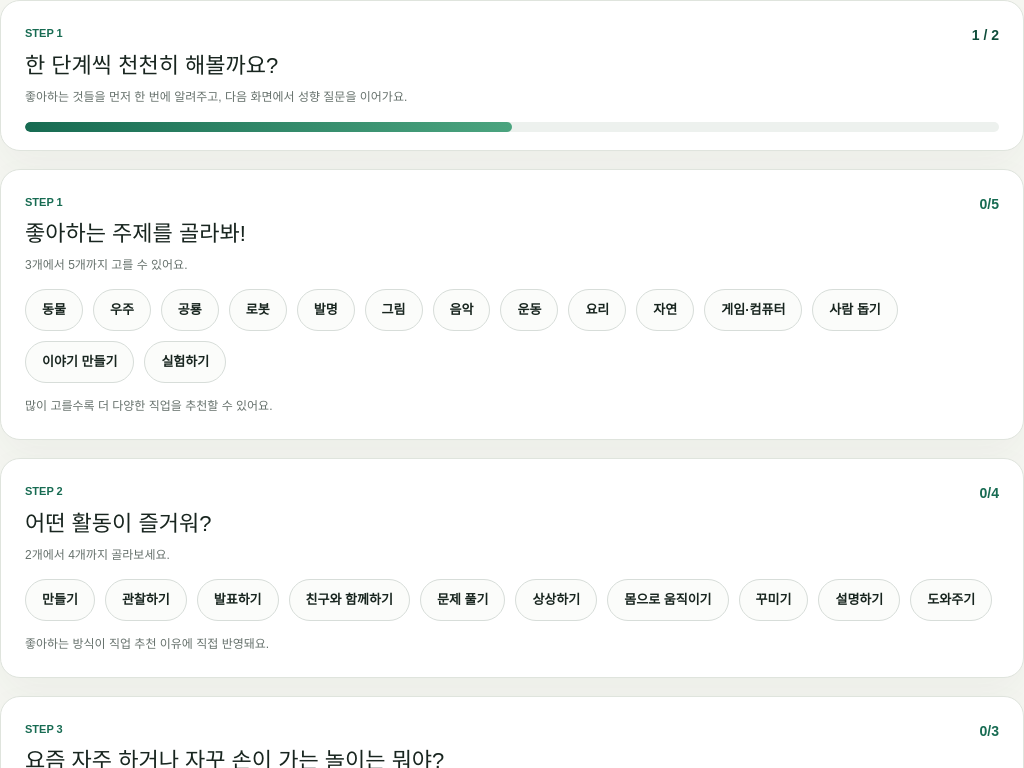
Test: requires new balanced inputs before moving to the personality step
Click the button "동물" at (54, 310), box [25,289,83,331]
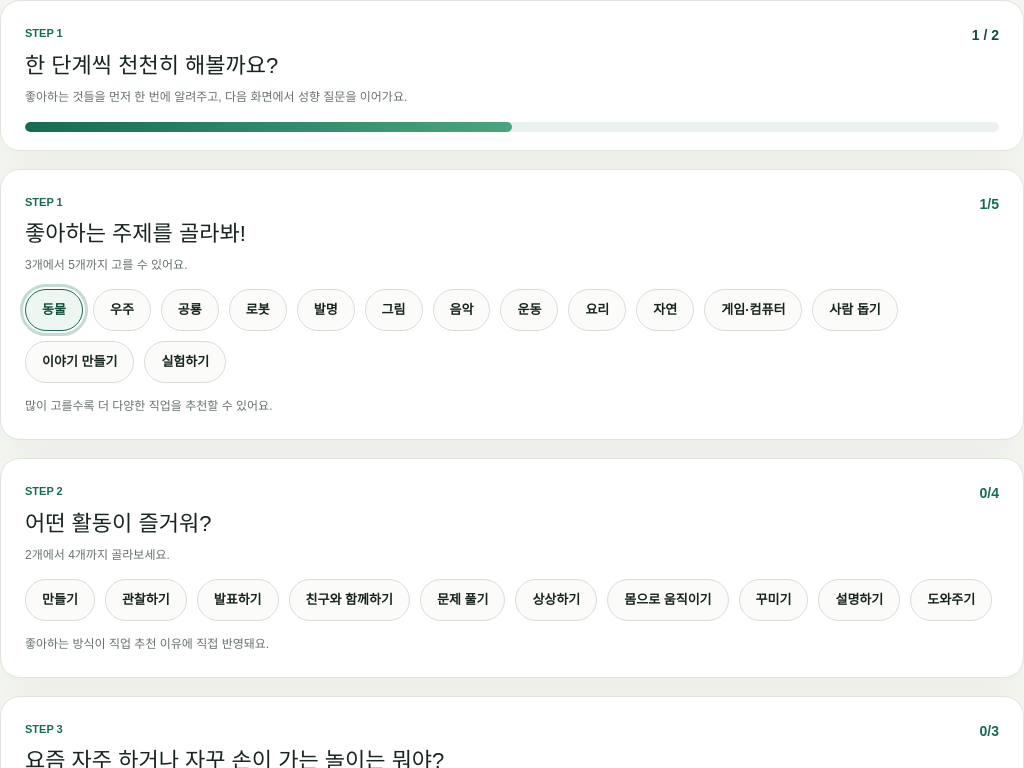
Click the button "우주" at (122, 310), box [93,289,151,331]
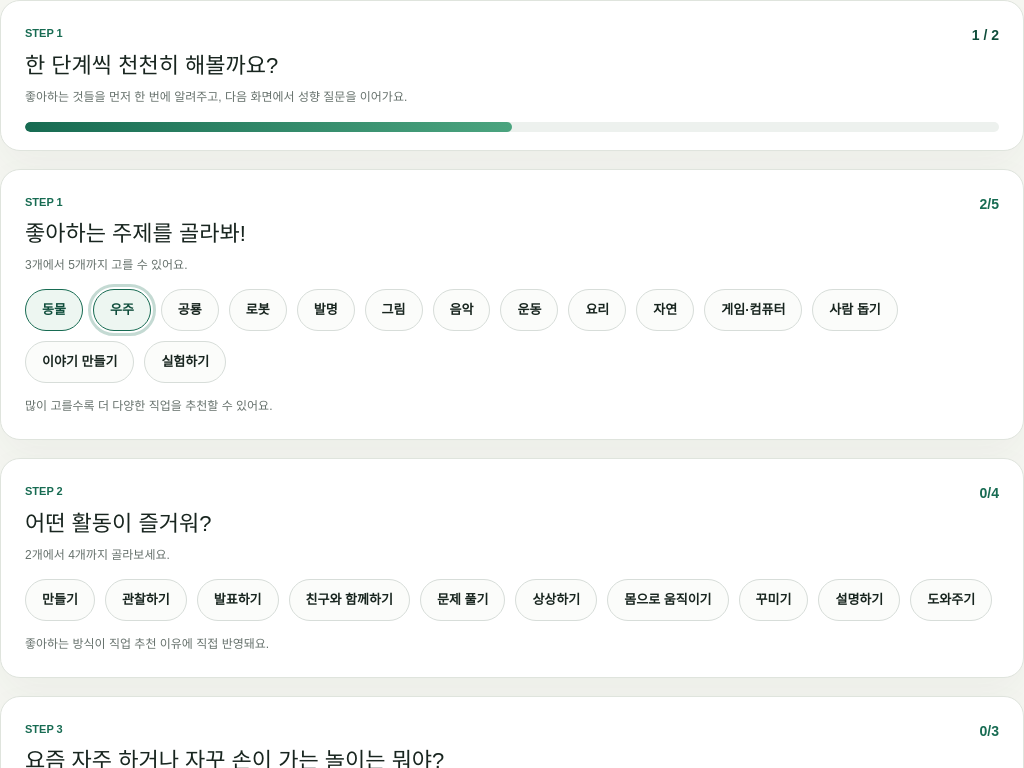
Click the button "로봇" at (258, 310), box [229,289,287,331]
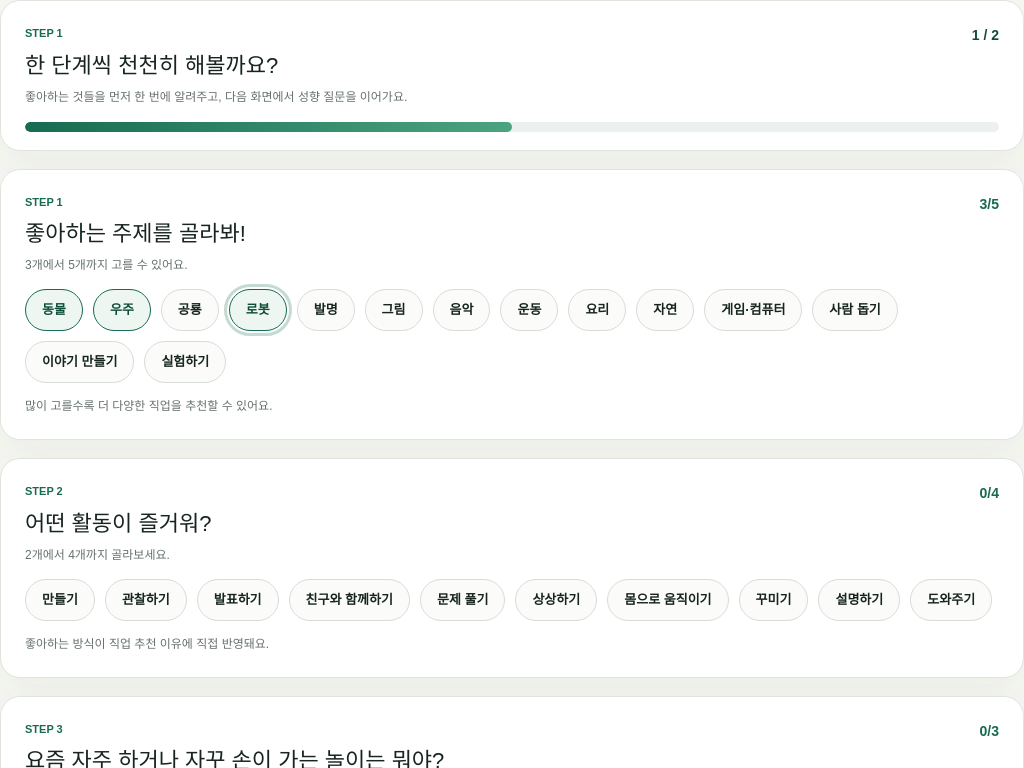
Click the button "만들기" at (60, 600), box [25,579,95,621]
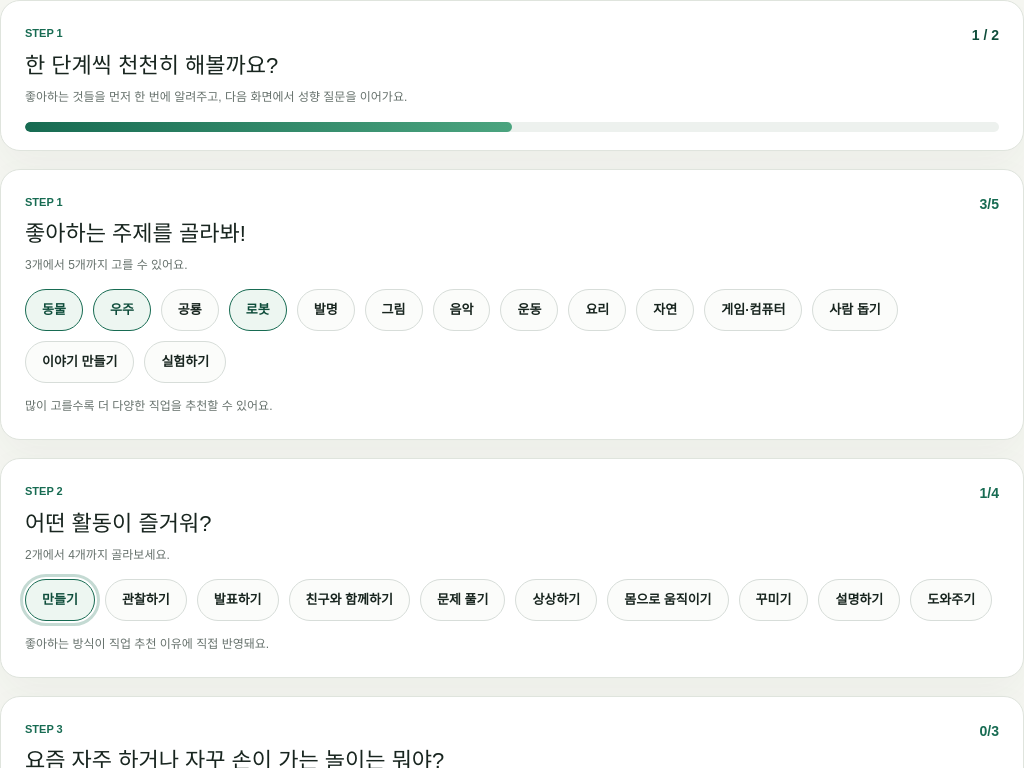
Click the button "관찰하기" at (146, 600), box [105,579,187,621]
(page scrolled)
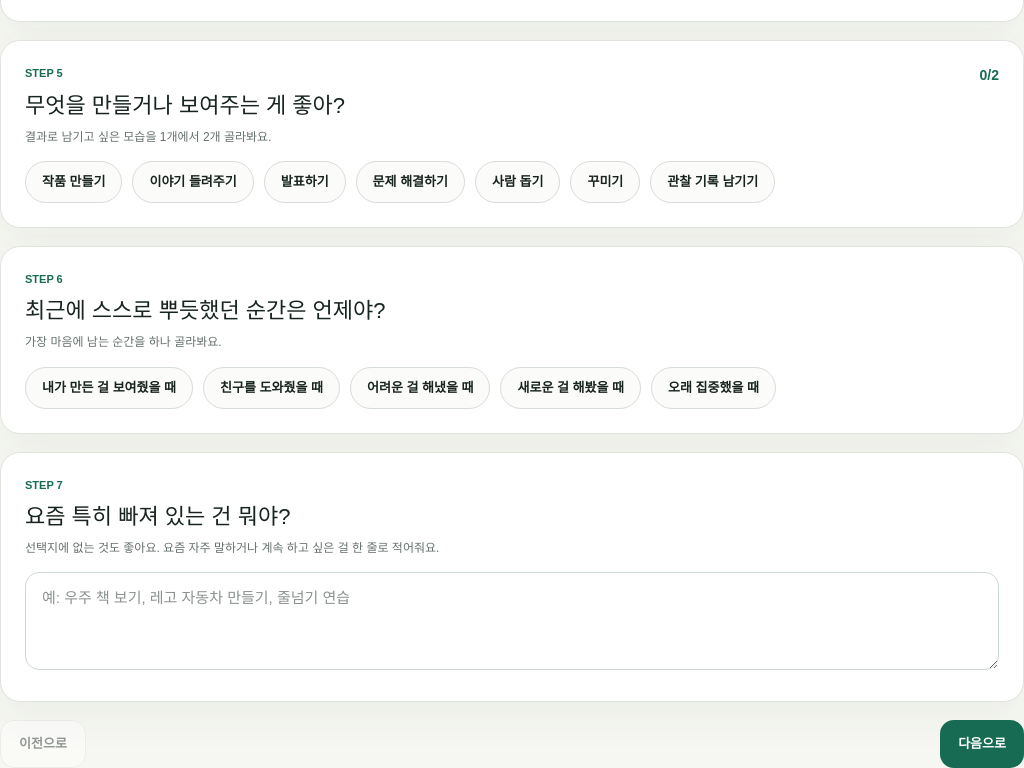
Type "레고 만들기" into the text box with placeholder "예: 우주 책 보기, 레고 자동차 만들기, 줄넘기 연습" at (512, 621), box [25,572,999,670]
Click the button "다음으로" at (982, 744), box [940,720,1023,767]
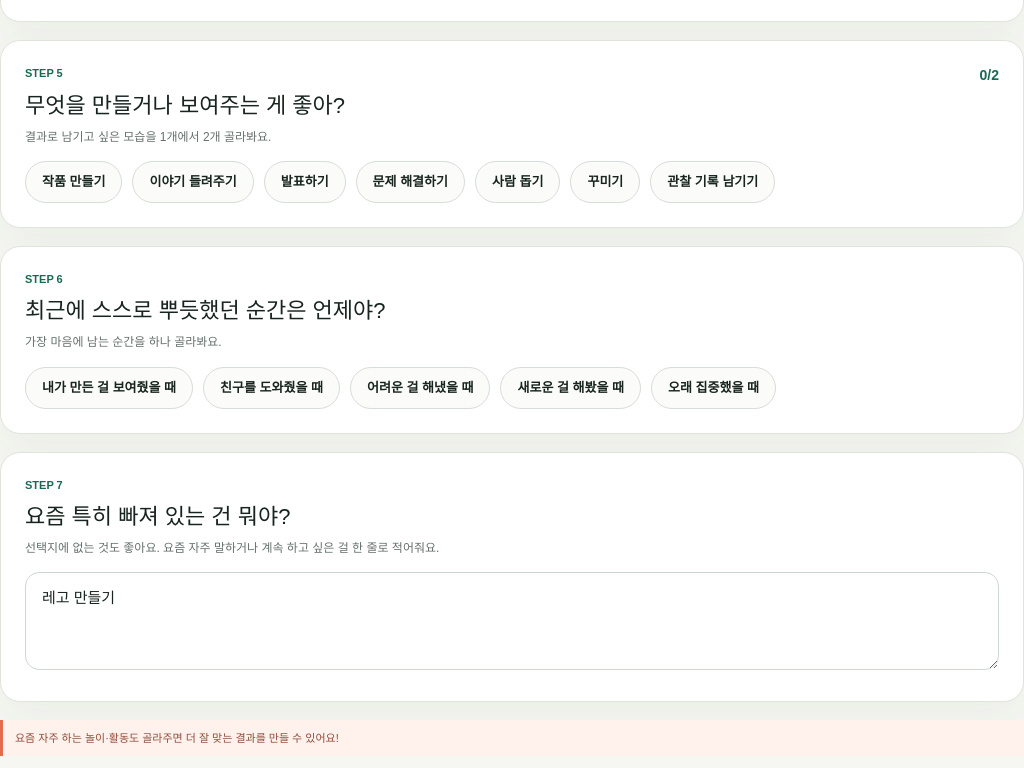
Result: the text "요즘 자주 하는 놀이·활동도 골라주면 더 잘 맞는 결과를 만들 수 있어요!" is shown at [0,720,1023,756]
